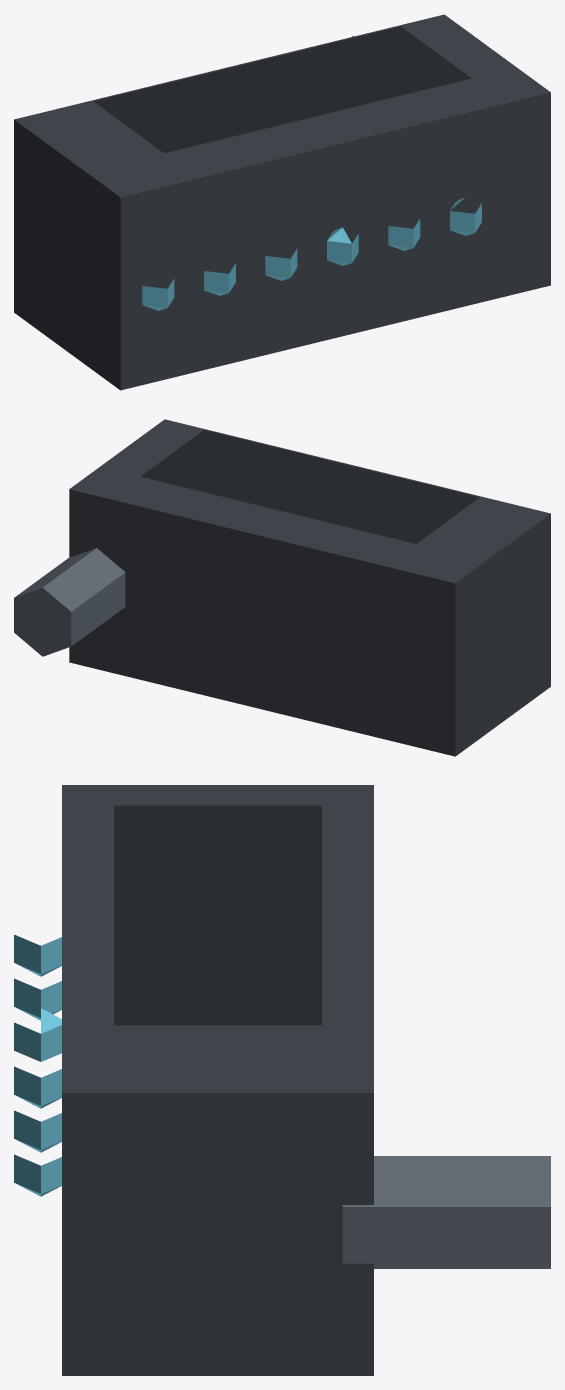
Rendered from droid-vocoder-champion.lod.glb.
3 views of the same model, one above another, from view 1: azimuth 30°, elevation 25°; view 2: azimuth 150°, elevation 25°; view 3: azimuth 270°, elevation 25° (orthographic). The views are drawn at different scales.
Visible parts, largest first — view 1: m; view 2: m; view 3: m.
Part boxes in pixels (x1=…): m: x1=14, y1=14, x2=550, y2=390; m: x1=14, y1=419, x2=550, y2=756; m: x1=14, y1=785, x2=550, y2=1375.
Size of the model in its own units: 0.1 by 0.0463 by 0.0735.
